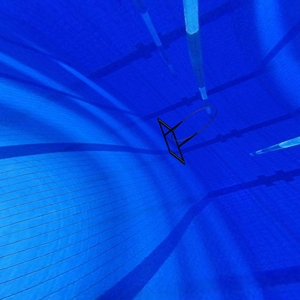circle: (158, 105, 219, 167)
